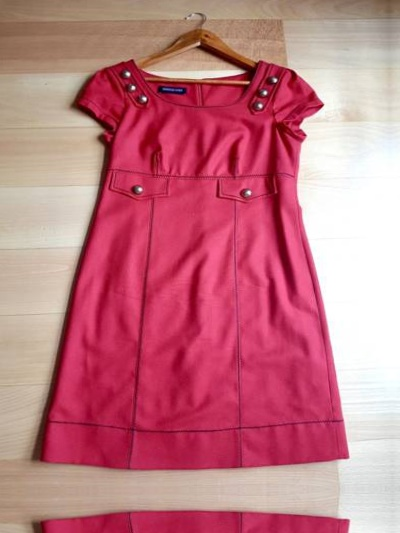Dress: (10, 41, 357, 482), (14, 499, 360, 533)
